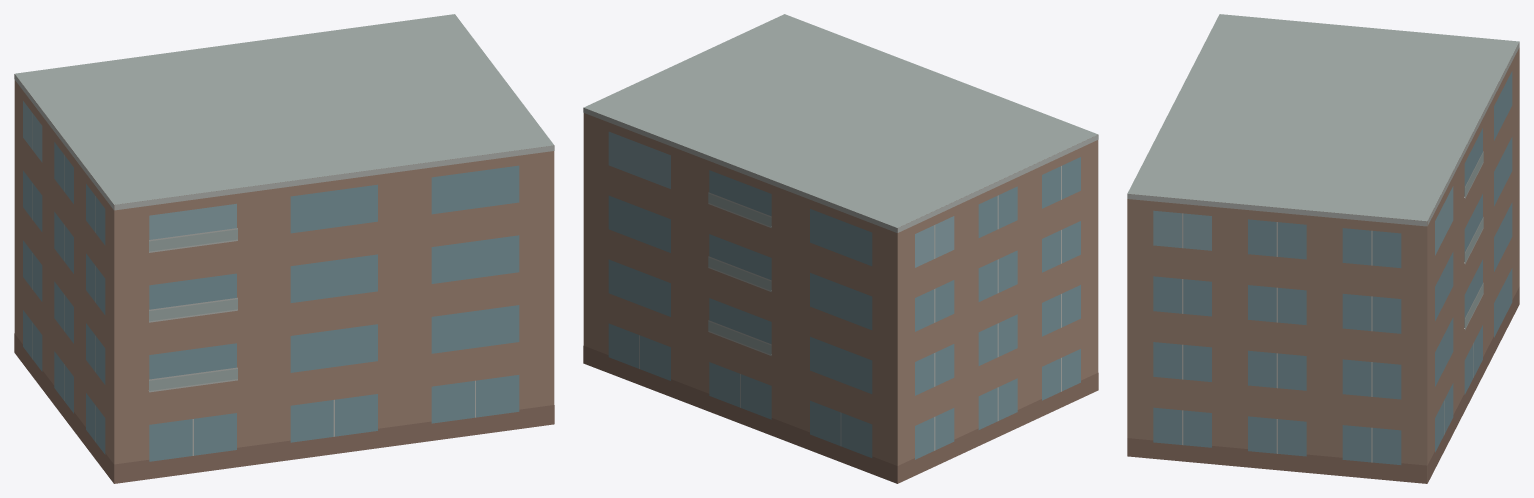
Rendered from residential-54224fa2-1086-44b6-bbf3-95bb3fa814b0.glb.
3 renders of one model, left to right at view 1: azimuth 30°, elevation 25°; view 2: azimuth 150°, elevation 25°; view 3: azimuth 270°, elevation 25°, orthographic. The views are drawn at different scales.
Parts seen in each view (by area): view 1: residential-54224fa2-1086-44b6-bbf3-95bb3fa814b0.tmp; view 2: residential-54224fa2-1086-44b6-bbf3-95bb3fa814b0.tmp; view 3: residential-54224fa2-1086-44b6-bbf3-95bb3fa814b0.tmp.
Part boxes in pixels (x1,y1,x2,y2): residential-54224fa2-1086-44b6-bbf3-95bb3fa814b0.tmp: (14,14,554,483); residential-54224fa2-1086-44b6-bbf3-95bb3fa814b0.tmp: (583,14,1098,483); residential-54224fa2-1086-44b6-bbf3-95bb3fa814b0.tmp: (1127,14,1519,483).
Bounding box in the file's own units: 20.66 × 12.2 × 16.53.
